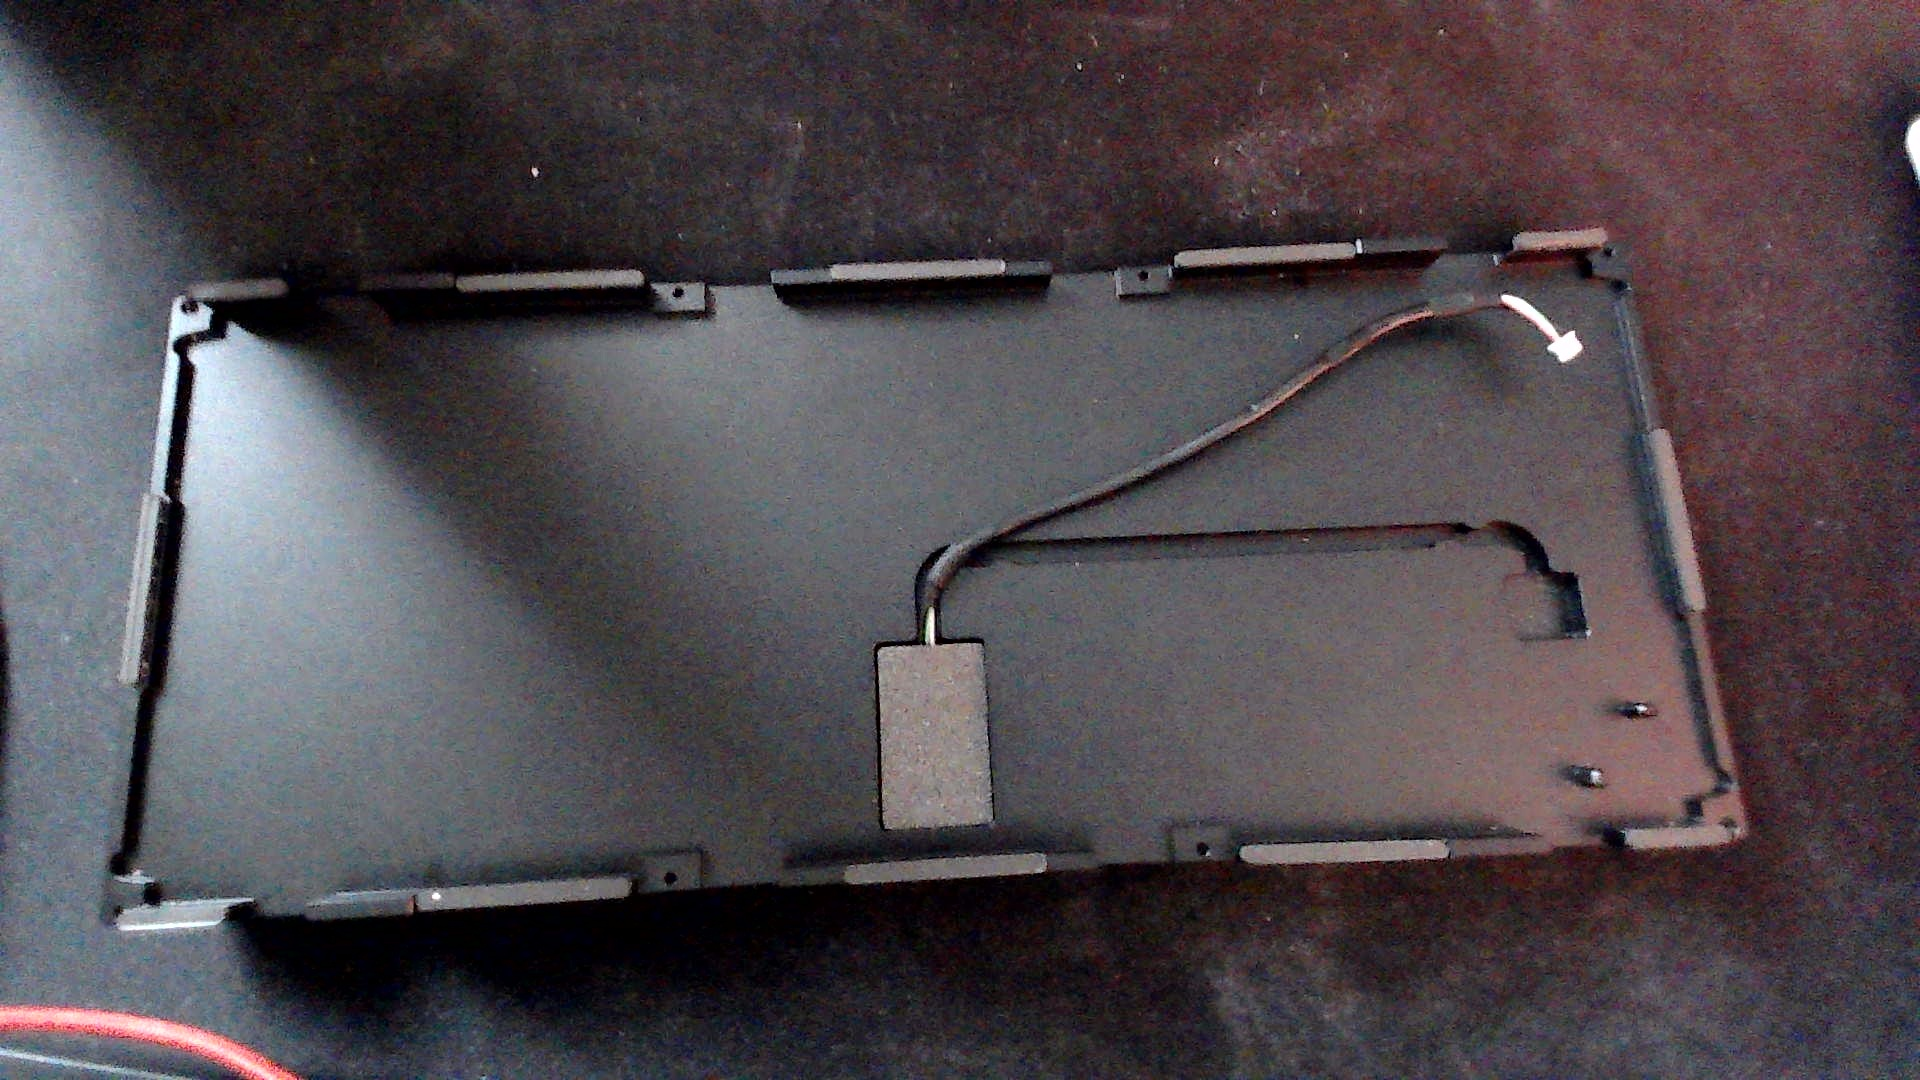case: (76, 179, 1775, 957)
